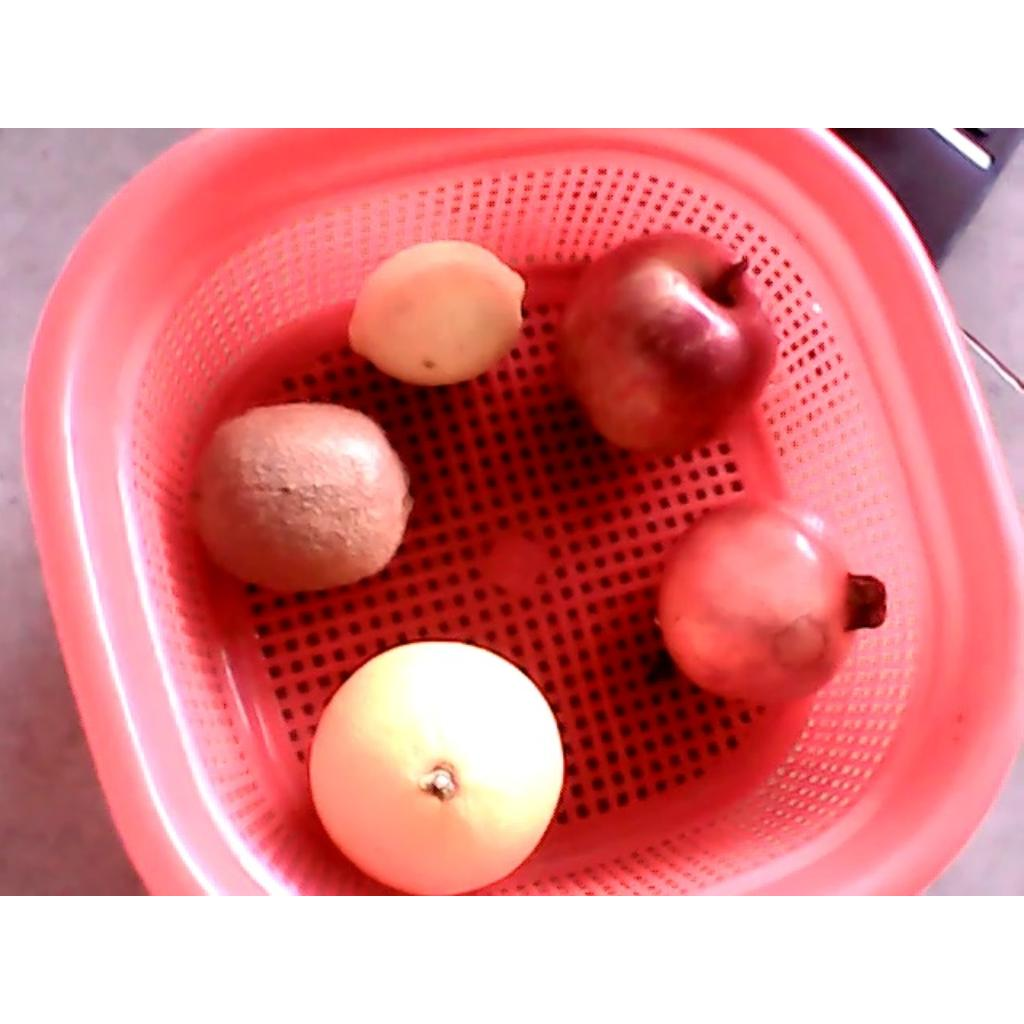apple: (556, 230, 776, 455)
kiwi: (185, 402, 412, 591)
lemon: (346, 237, 527, 387)
orange: (309, 637, 566, 894)
pomegranate: (654, 490, 885, 704)
